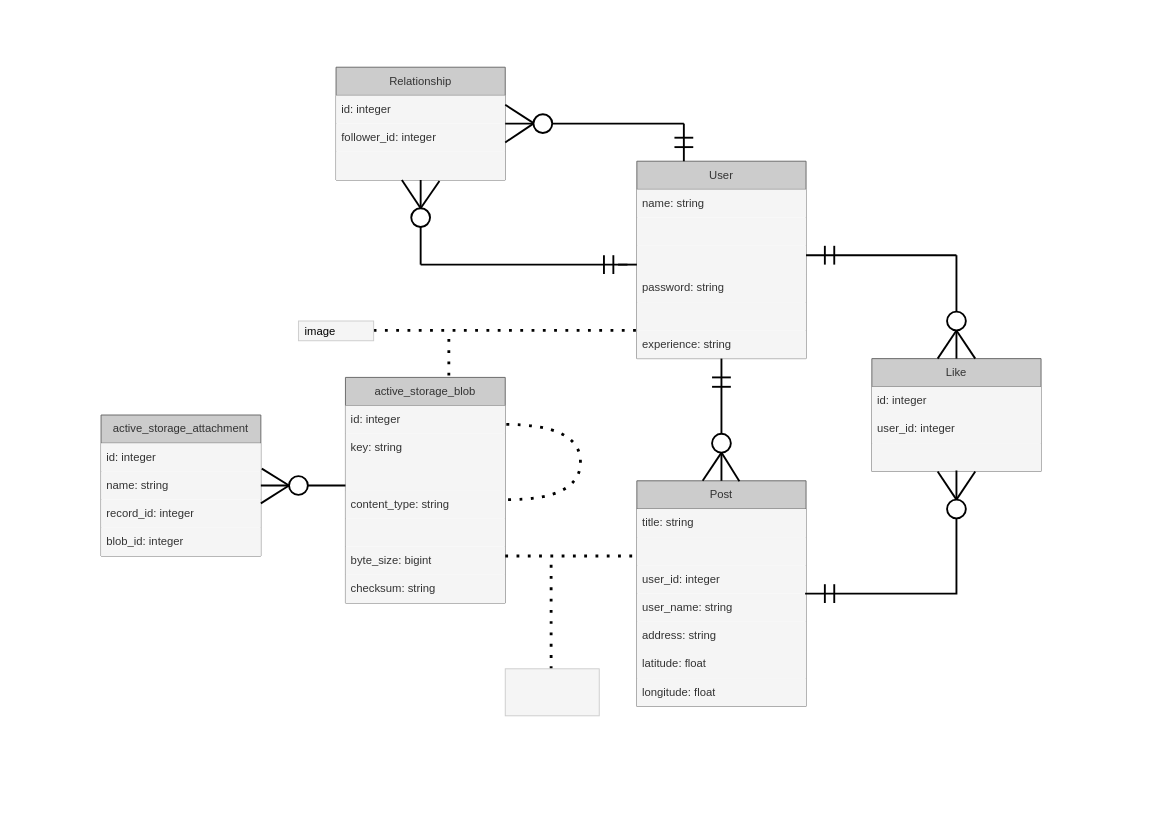
Image size: 1151x817. Some labels were removed from this diagram. The centre of each missing label's shape, as x and y in pixels:
"content: text" belongs at point (721, 551).
"email: string" belongs at point (721, 231).
"filename: string" belongs at point (425, 476).
"followed_id: integer" belongs at point (420, 165).
"introduction: text" belongs at point (721, 259).
"metadata: text" belongs at point (425, 532).
"password_confirm: string" belongs at point (721, 316).
"post_id: integer" belongs at point (956, 457).
"spot_image flow_video" belongs at point (551, 692).
